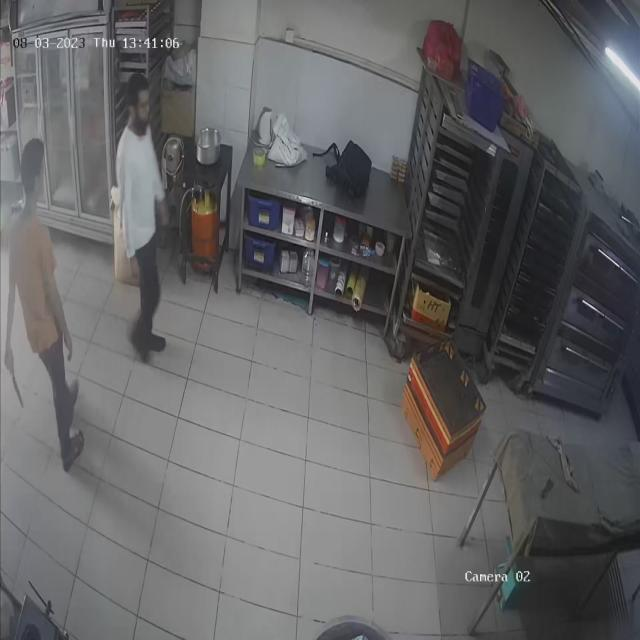Knife: (1, 365, 37, 417)
